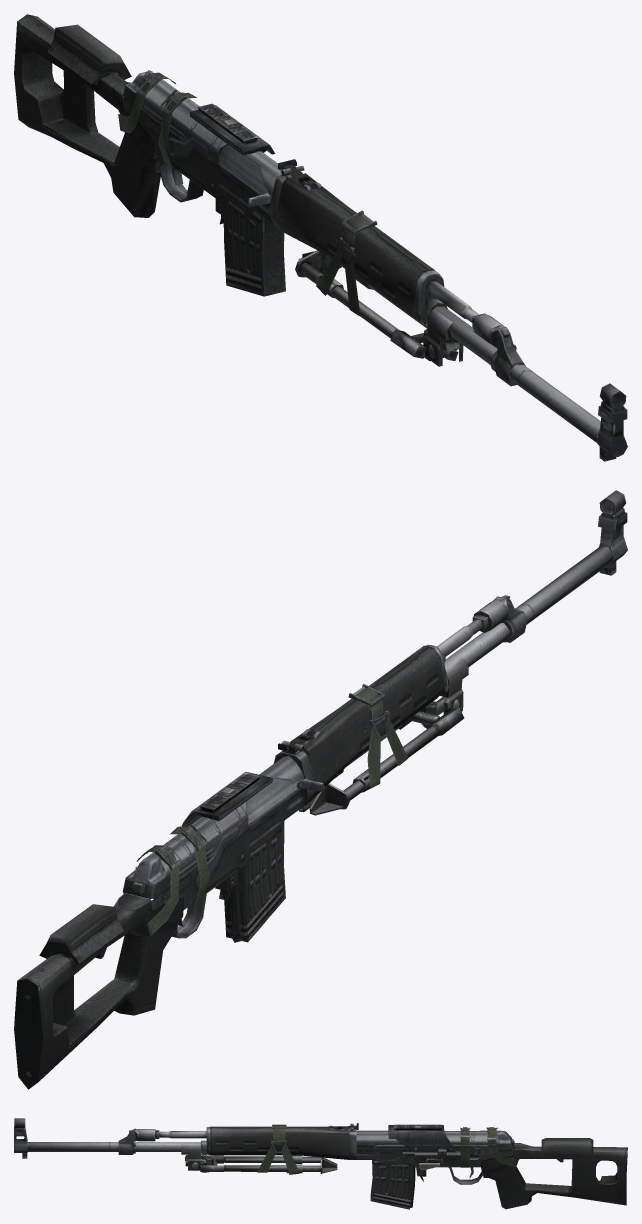
File: Sniper_Rifle_jjq_04_Body_Main_(000120).glb
The picture shows the model from 3 angles, top to bottom: view 1: azimuth 30°, elevation 25°; view 2: azimuth 150°, elevation 25°; view 3: azimuth 270°, elevation 25°; orthographic projection. The views are drawn at different scales.
Visible parts, largest first — view 1: jjq_04; view 2: jjq_04; view 3: jjq_04.
Boxes of the visible parts, x1,y1,x2,y2 form: jjq_04: (14,14,627,461); jjq_04: (14,490,627,1089); jjq_04: (14,1118,627,1209).
Size of the model in its own units: 0.1 by 0.2442 by 1.53.
Materials: 1 (1 with a texture image).
